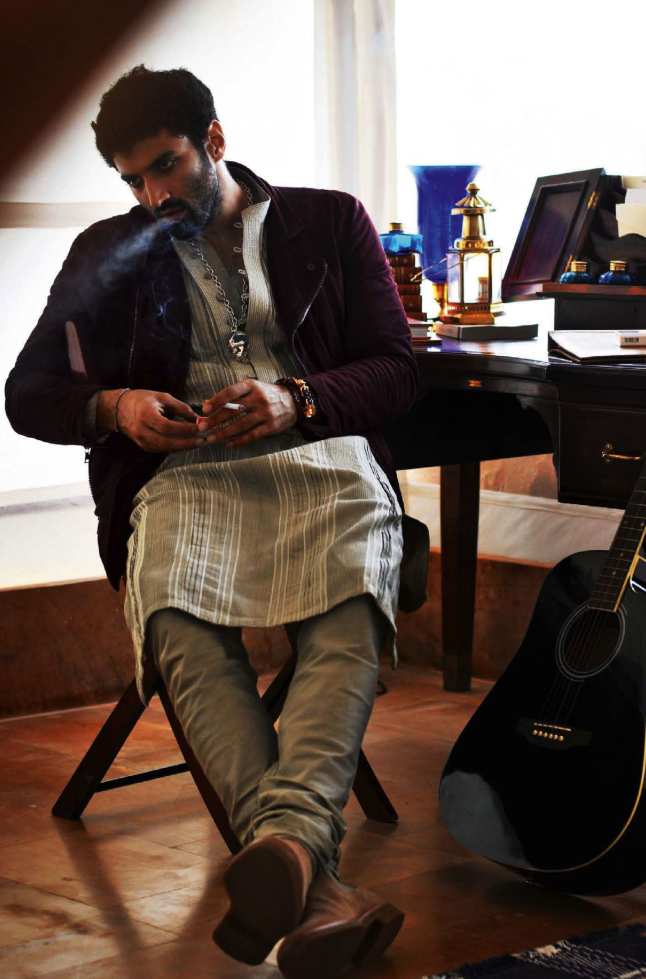cigarette: (212, 391, 254, 423)
